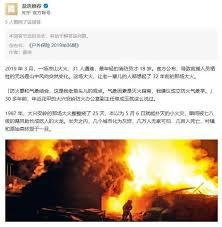fire: (108, 135, 216, 207), (7, 136, 72, 171)
